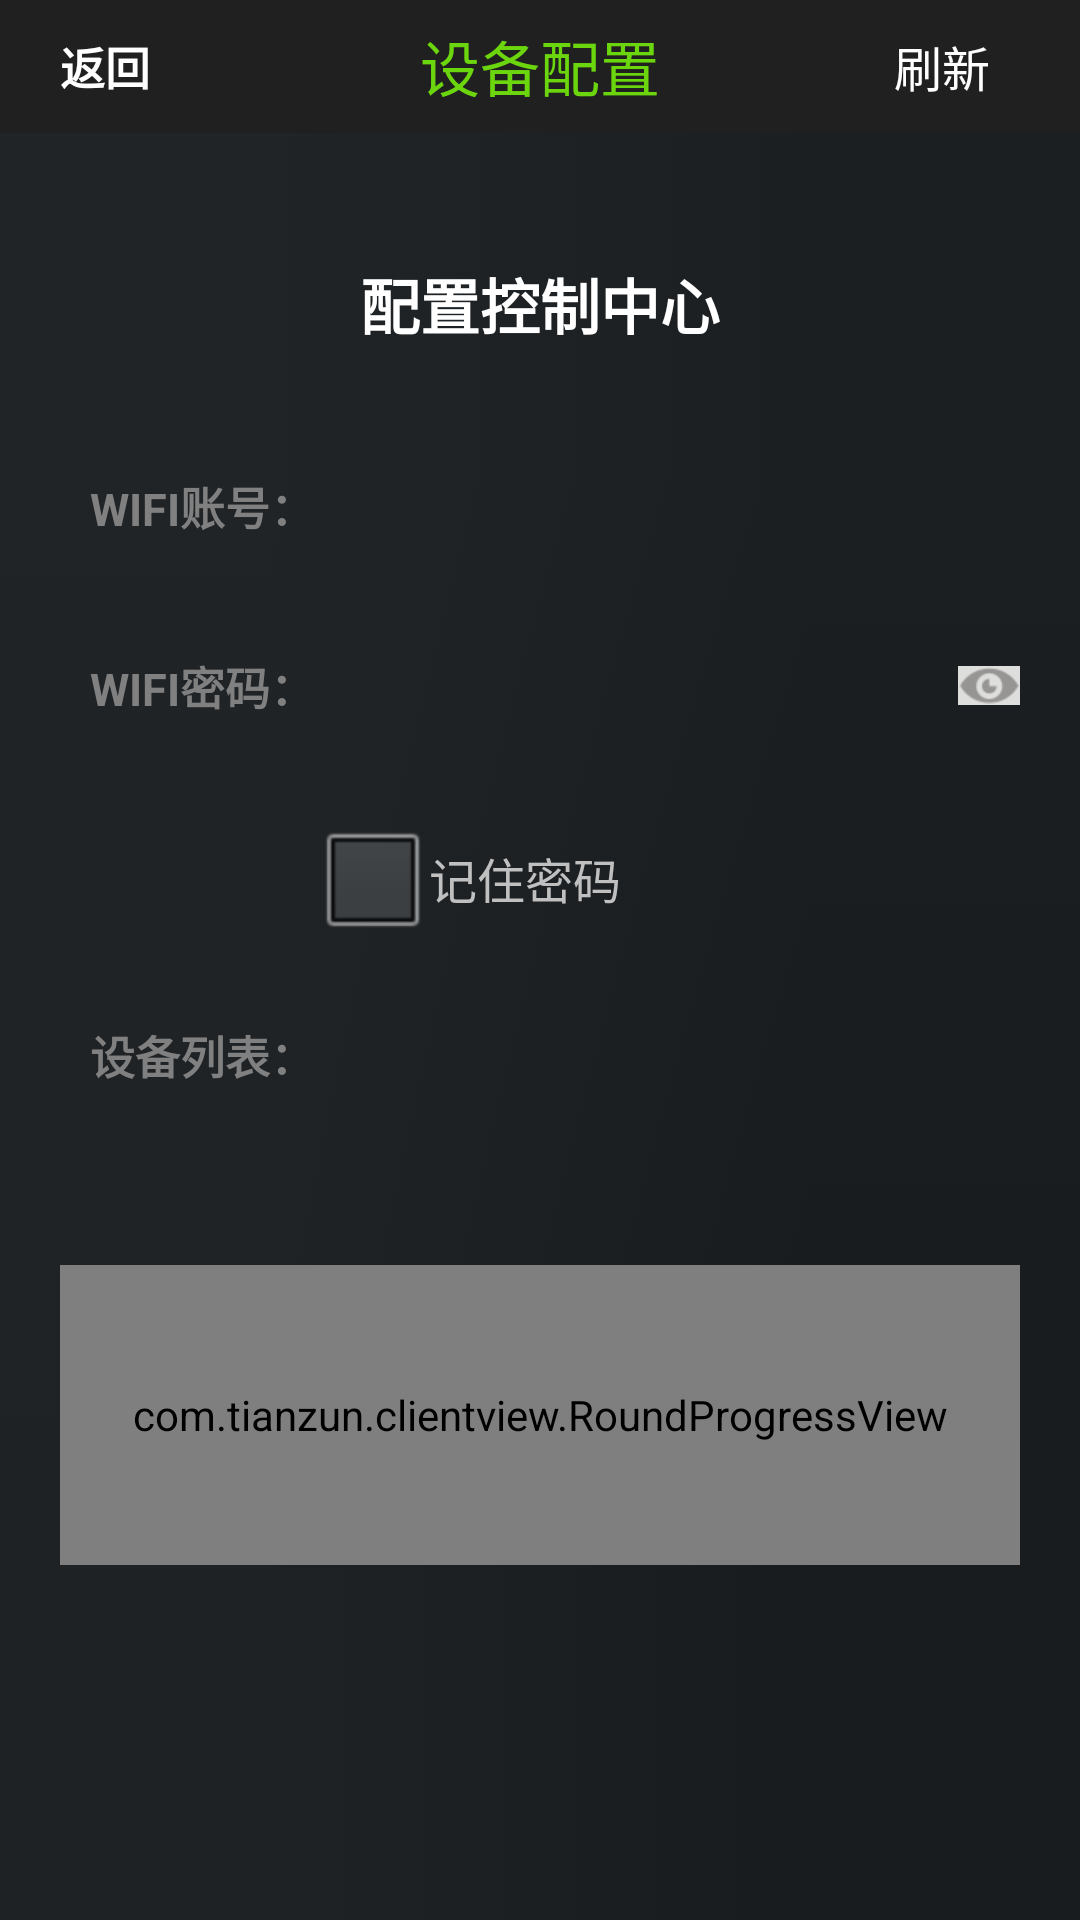

Named icons in this screenshot (1080w x 1920h) and their centers, [x,y]:
eye: [989,685]
